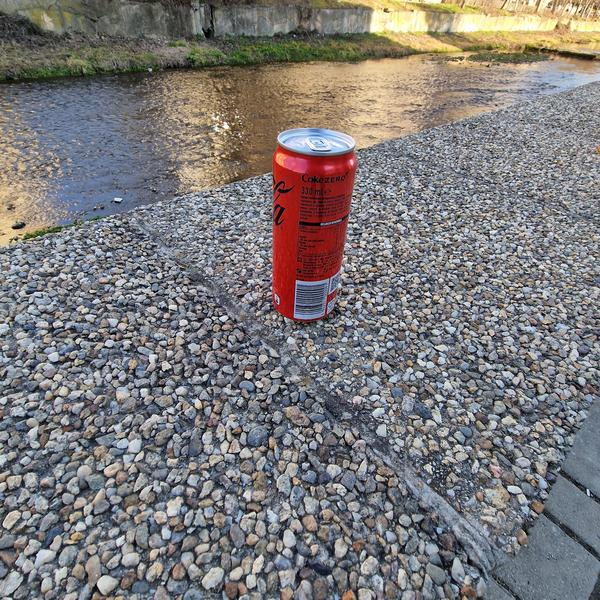can: (261, 122, 357, 325)
